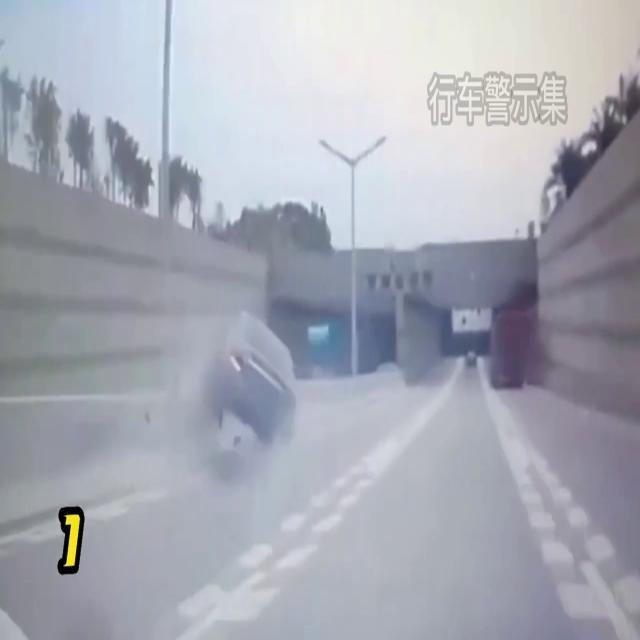accident: (186, 308, 296, 466)
